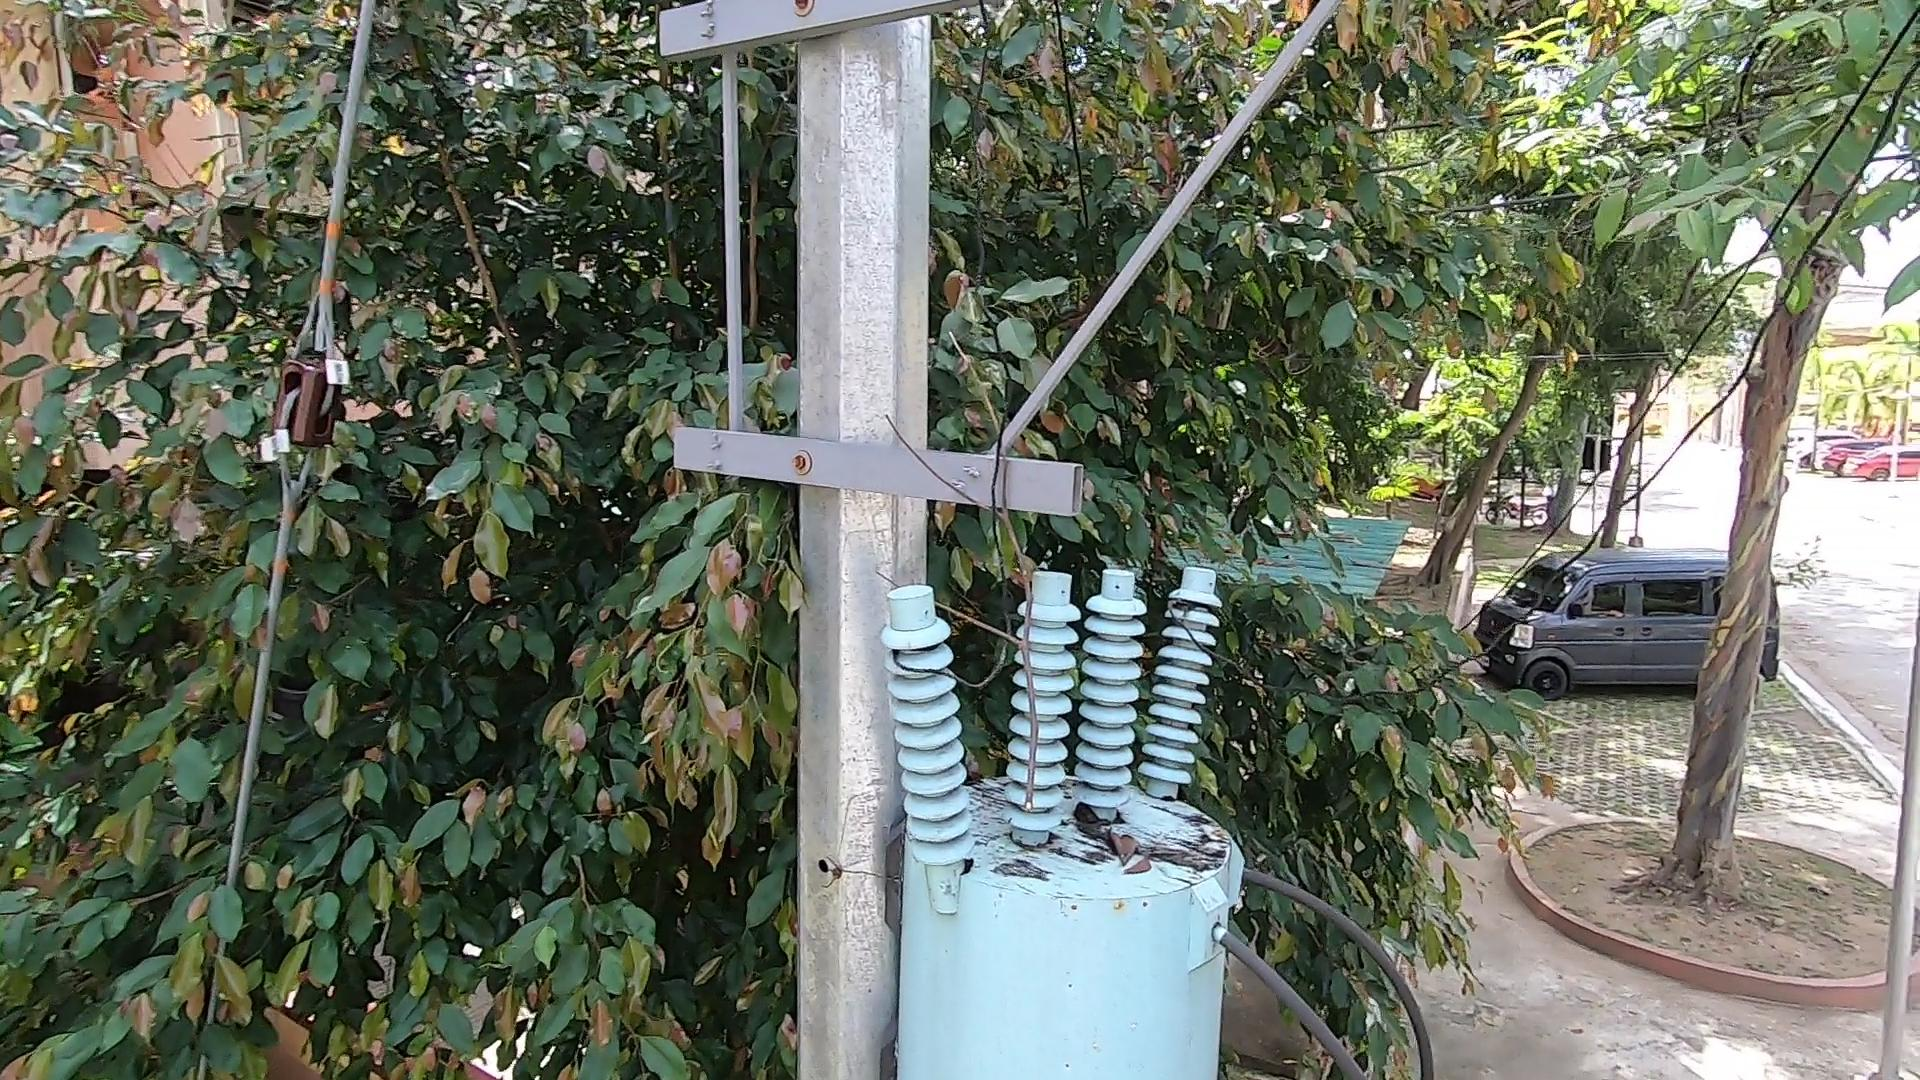leaf: (1076, 800, 1154, 878)
tree branch: (874, 310, 1087, 810)
